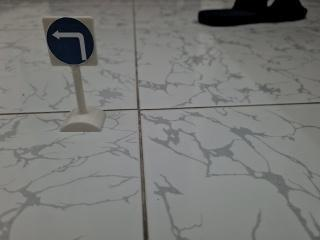left: (39, 15, 104, 68)
